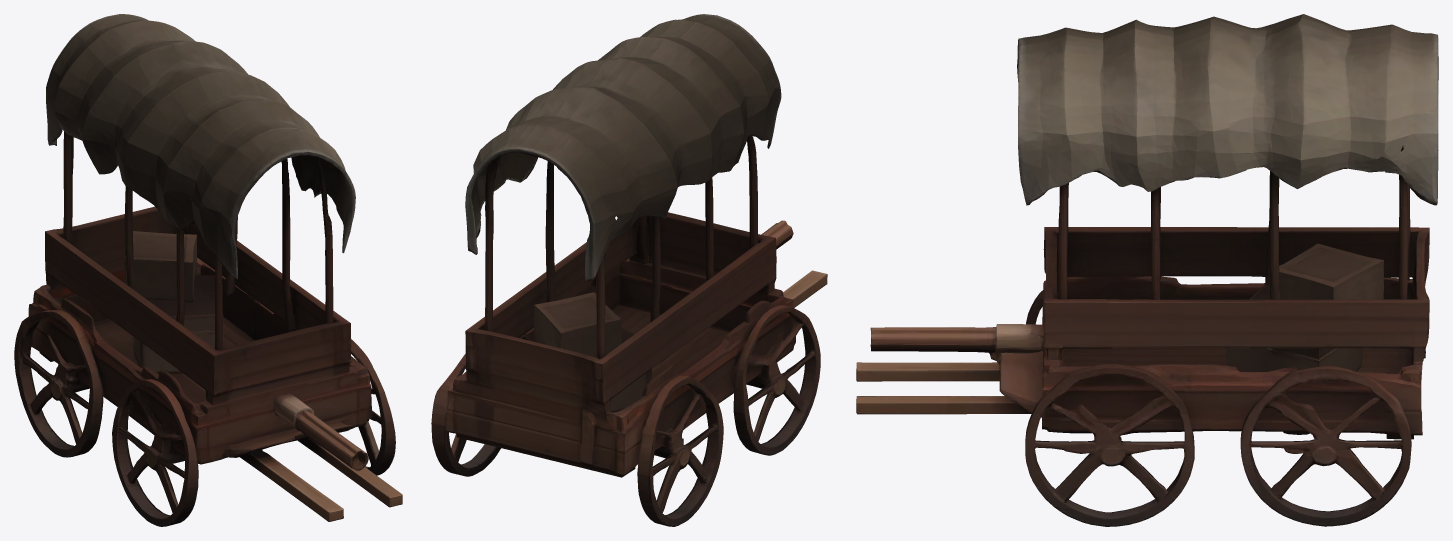
Rendered from voxhammer_t04.glb.
3 renders of one model, left to right at view 1: azimuth 30°, elevation 25°; view 2: azimuth 150°, elevation 25°; view 3: azimuth 270°, elevation 25°, orthographic. The views are drawn at different scales.
Visible parts, largest first — view 1: geometry_0; view 2: geometry_0; view 3: geometry_0.
Part boxes in pixels (<box>): geometry_0: <box>14,14,402,526</box>; geometry_0: <box>431,14,827,526</box>; geometry_0: <box>856,14,1438,526</box>.
Size of the model in its own units: 0.967 by 1.69 by 2.
Materials: 1 (1 with a texture image).
